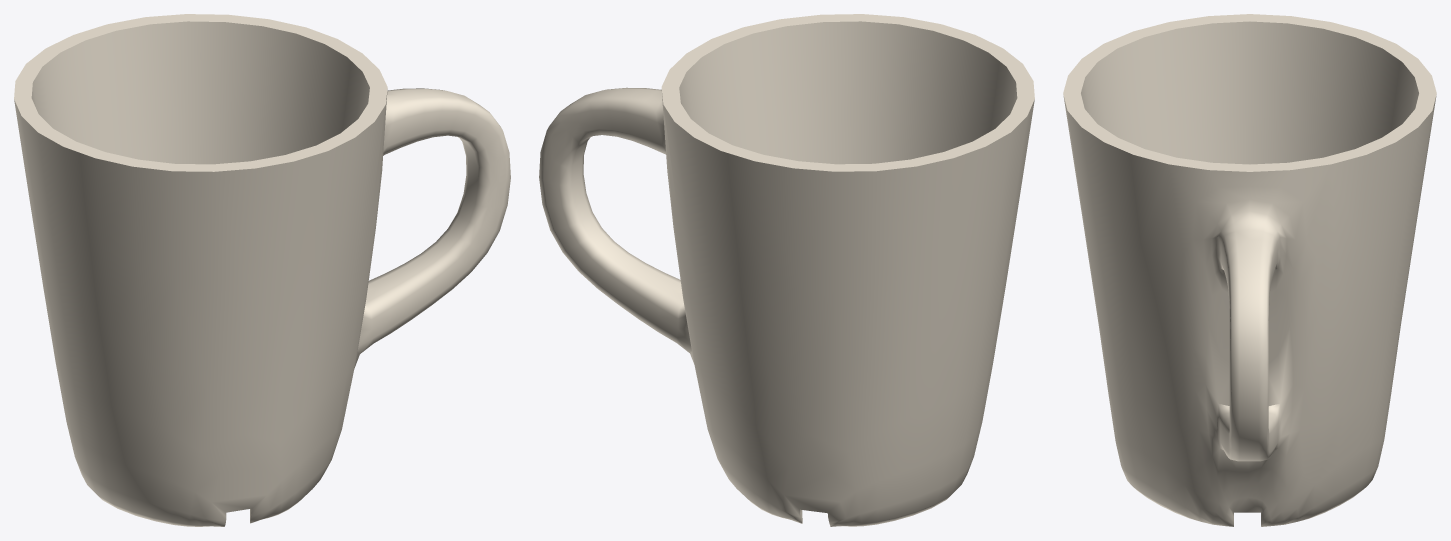
Rendered from maison-cup.glb.
3 renders of one model, left to right at view 1: azimuth 30°, elevation 25°; view 2: azimuth 150°, elevation 25°; view 3: azimuth 270°, elevation 25°, orthographic.
Parts seen in each view (by area): view 1: cup_Cylinder.003; view 2: cup_Cylinder.003; view 3: cup_Cylinder.003.
Boxes of the visible parts, x1,y1,x2,y2 form: cup_Cylinder.003: (14, 14, 510, 526); cup_Cylinder.003: (539, 14, 1034, 526); cup_Cylinder.003: (1063, 14, 1436, 526).
Size of the model in its own units: 2.53 by 1.99 by 1.76.
